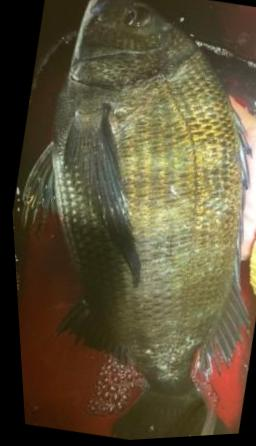fish: (18, 0, 248, 441)
